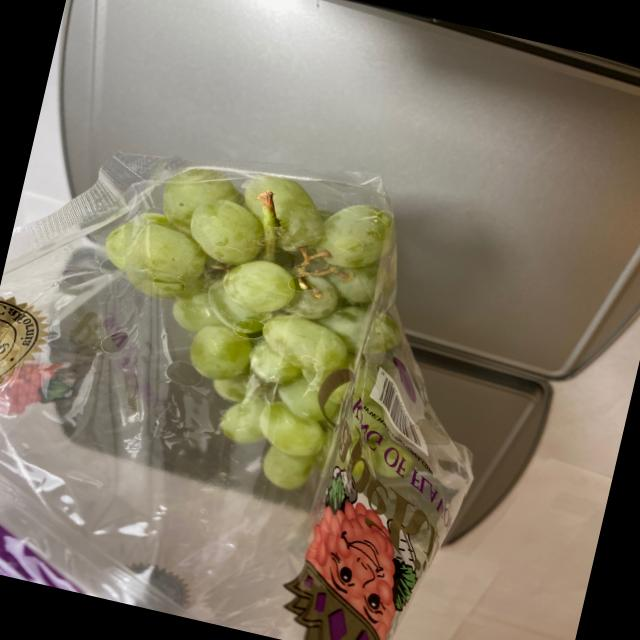grapes: (62, 145, 486, 527)
